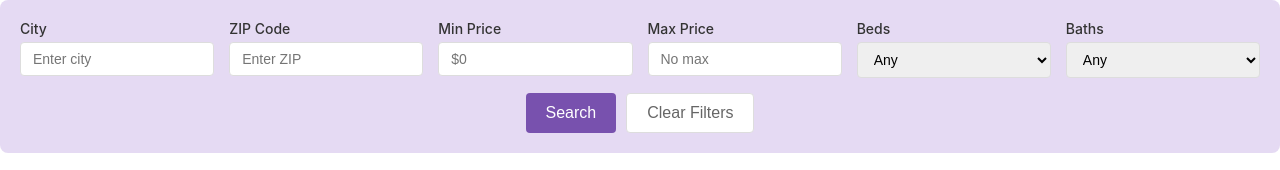
Test: PropertyFilters › clears all filters when Clear button clicked
enter a city
Type "Ridgecrest" into the field labelled "City" at (117, 59), box left=20, top=42, right=214, bottom=76
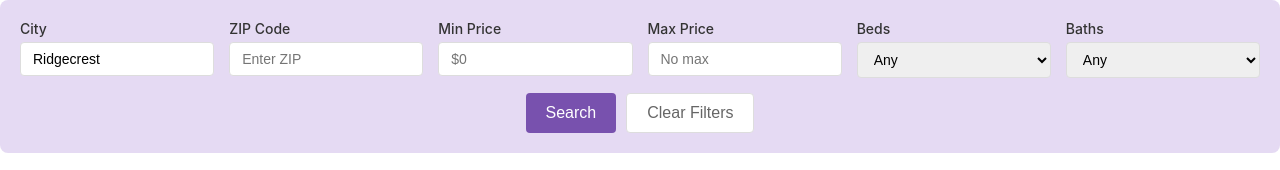
click the clear filters button
Click the button "Clear Filters" at (690, 113), box left=626, top=93, right=754, bottom=133
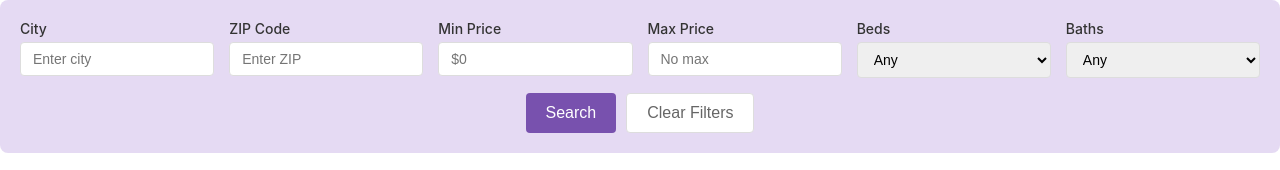
Result: the field labelled "City" is empty at left=20, top=42, right=214, bottom=76
